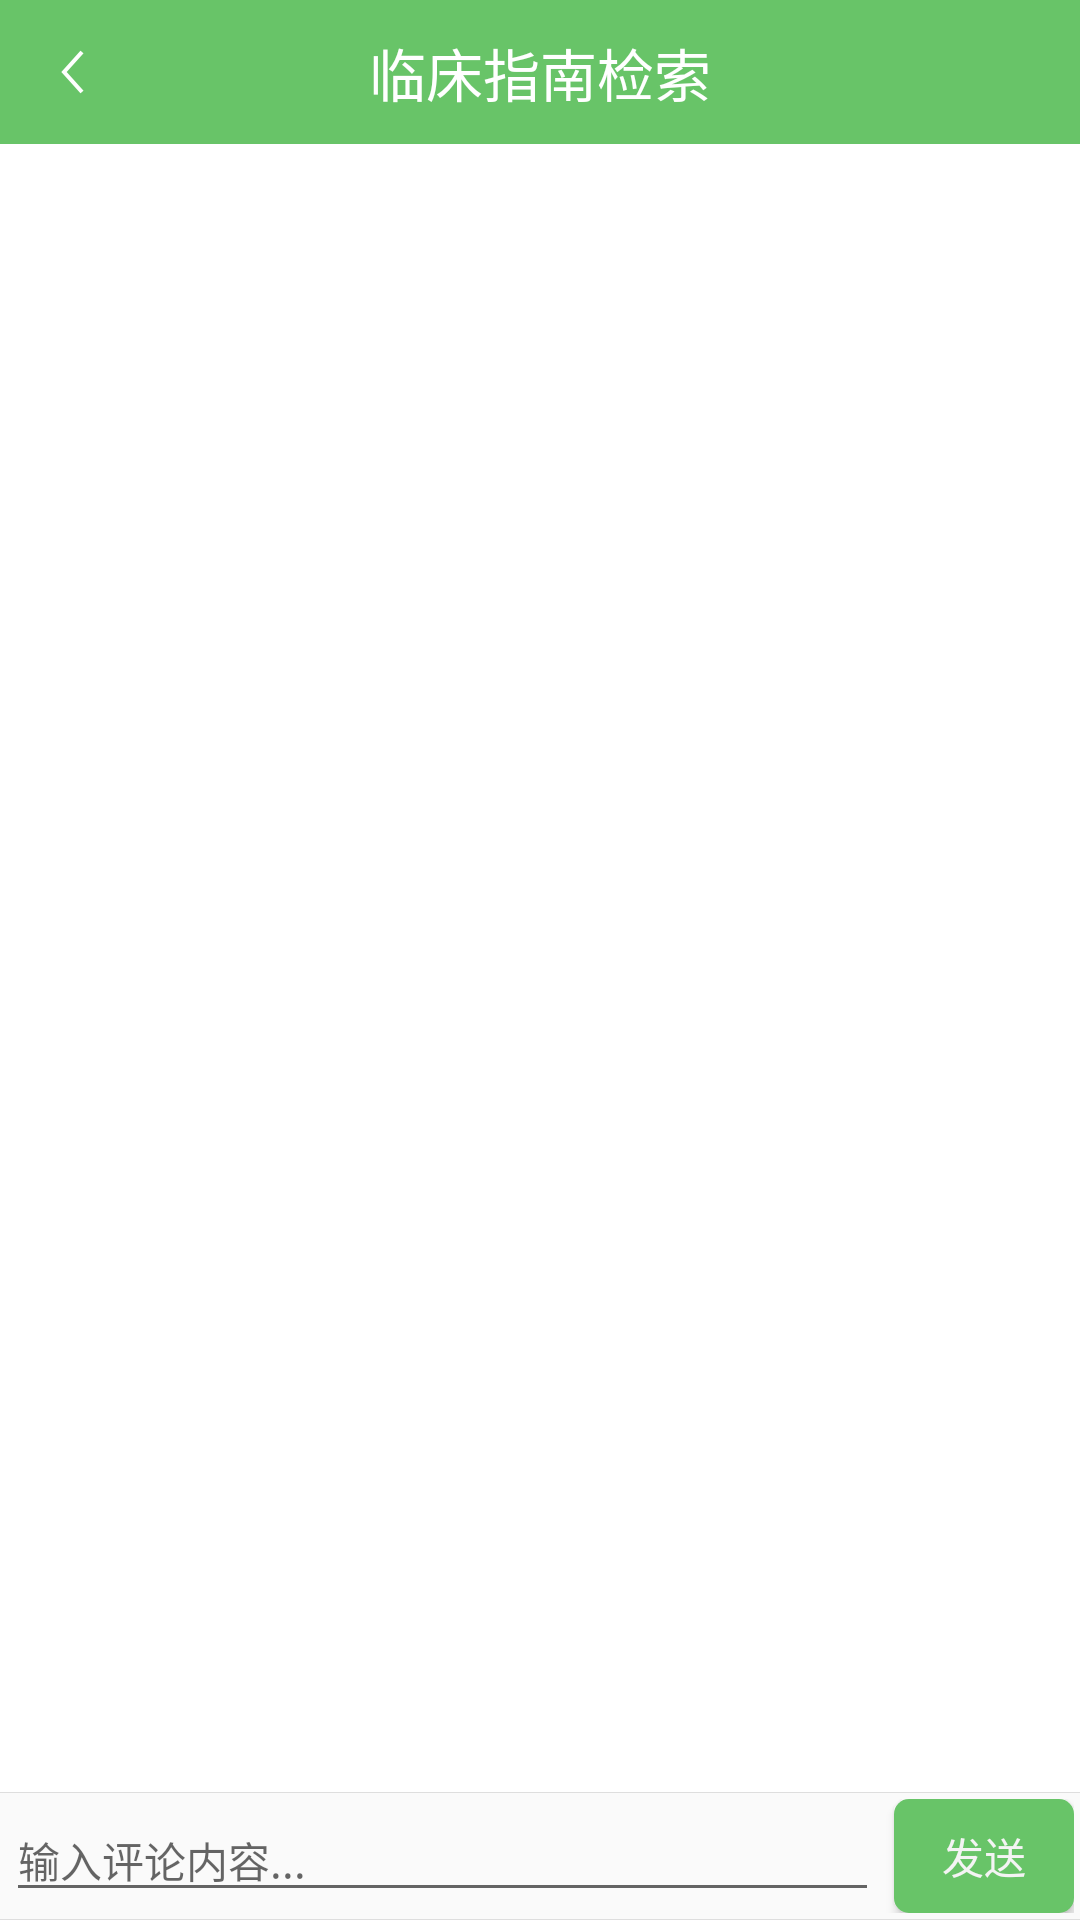

Point at icon controls on the screen. Image size 1080px×1920px, points as (x,y).
back: (72,72)
